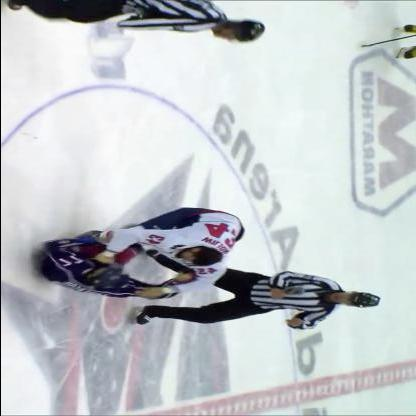voilence: (38, 204, 244, 300)
